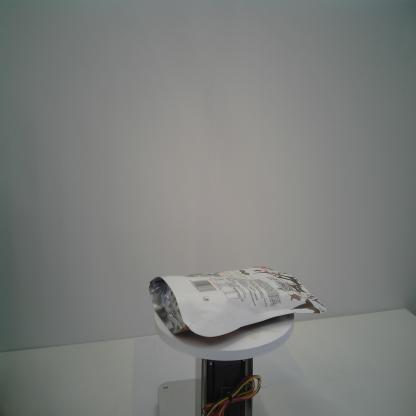Dried Fruit: (148, 264, 327, 338)
